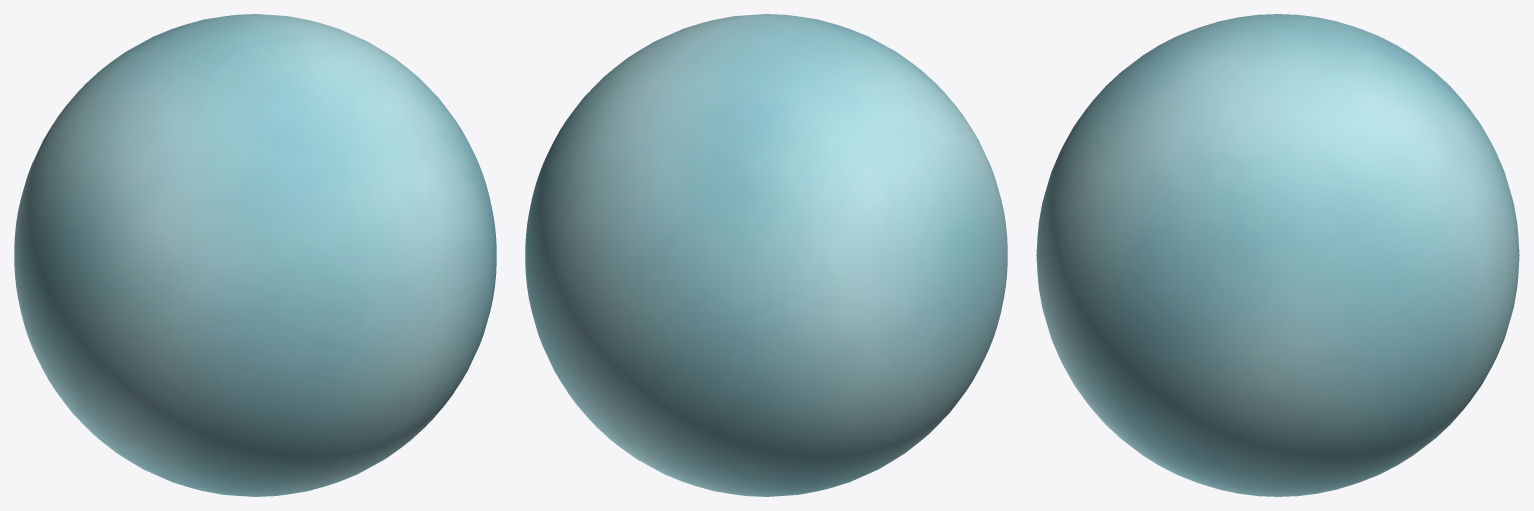
The model's file is uranus.glb.
3 views of the same model, side by side, from view 1: azimuth 30°, elevation 25°; view 2: azimuth 150°, elevation 25°; view 3: azimuth 270°, elevation 25° (orthographic).
Parts seen in each view (by area): view 1: uranus; view 2: uranus; view 3: uranus.
Boxes of the visible parts, box(x1,y1,x2,y2) form: uranus: box(14, 14, 496, 496); uranus: box(525, 14, 1007, 496); uranus: box(1036, 14, 1519, 496).
Bounding box in the file's own units: 2 × 2 × 2.
Materials: 1 (1 with a texture image).
